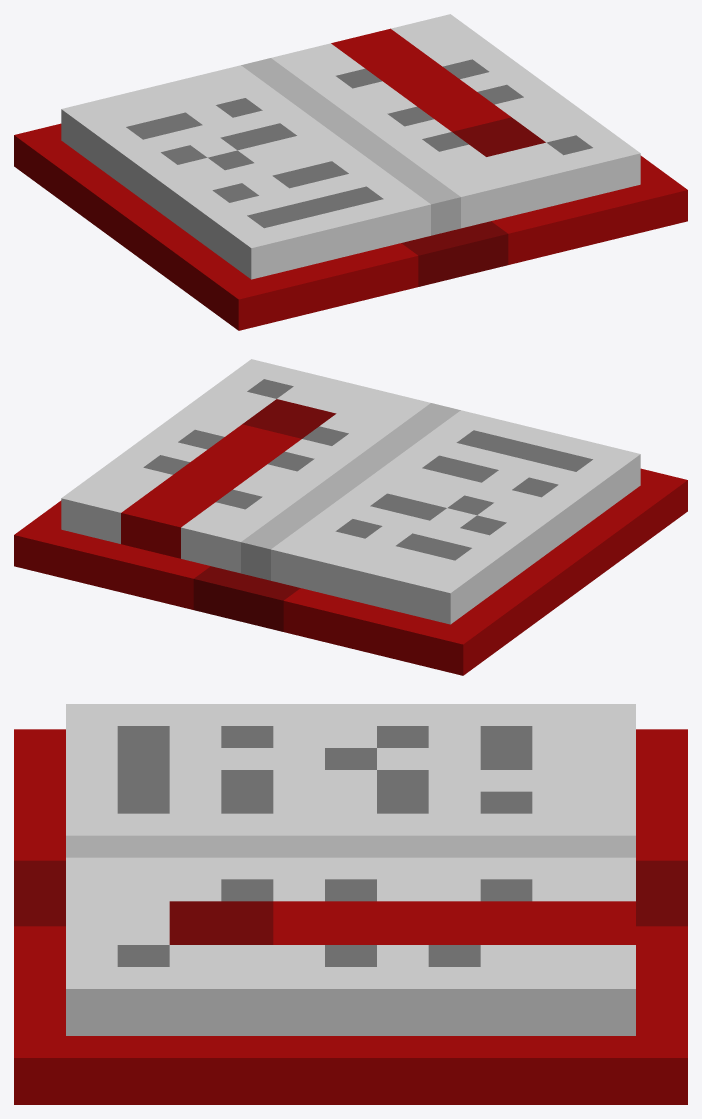
File: book open.fbx
3 views of the same model, one above another, from view 1: azimuth 30°, elevation 25°; view 2: azimuth 150°, elevation 25°; view 3: azimuth 270°, elevation 25° (orthographic). The views are drawn at different scales.
Parts seen in each view (by area): view 1: openbook; view 2: openbook; view 3: openbook.
Part boxes in pixels (left/top/right/bottom): openbook: left=14, top=14, right=687, bottom=330; openbook: left=14, top=359, right=687, bottom=675; openbook: left=14, top=704, right=687, bottom=1104.
Size of the model in its own units: 150 by 20 by 130.
